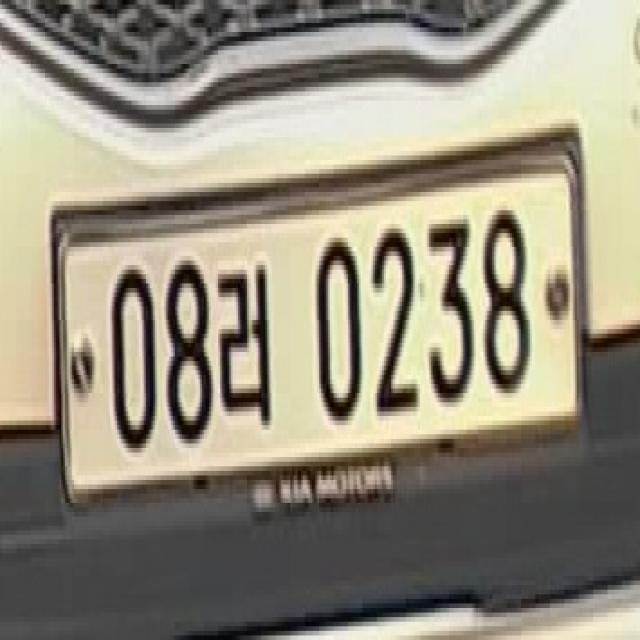0: (314, 224, 362, 434), (112, 262, 160, 456)
2: (374, 216, 419, 429)
3: (424, 200, 480, 420)
8: (484, 194, 534, 404), (165, 256, 212, 454)
leo: (216, 246, 280, 441)
license_plate: (38, 150, 593, 514)
